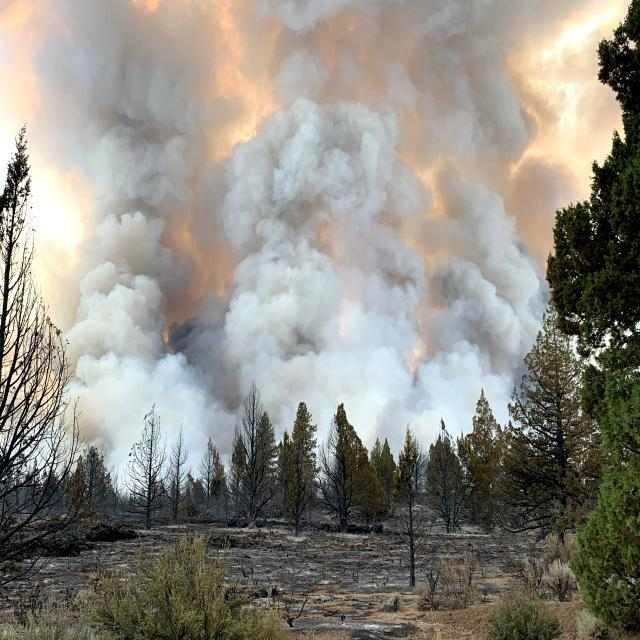Smoke: (0, 0, 578, 468)
